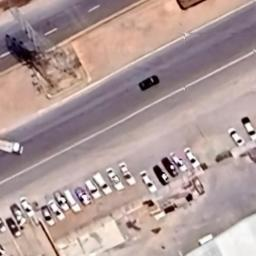SUV: (138, 74, 160, 92)
pickup: (0, 135, 26, 159)
sedan: (104, 164, 126, 191), (168, 152, 192, 176), (148, 162, 170, 186), (120, 158, 136, 190), (3, 216, 25, 239), (137, 168, 158, 191), (51, 190, 72, 212), (93, 172, 112, 196), (38, 202, 57, 226), (227, 125, 244, 151), (163, 155, 180, 181), (72, 184, 92, 206), (48, 199, 68, 221), (18, 196, 37, 219), (83, 180, 104, 200)
unknown: (8, 200, 28, 227)
van: (182, 146, 202, 172), (239, 116, 256, 143)
